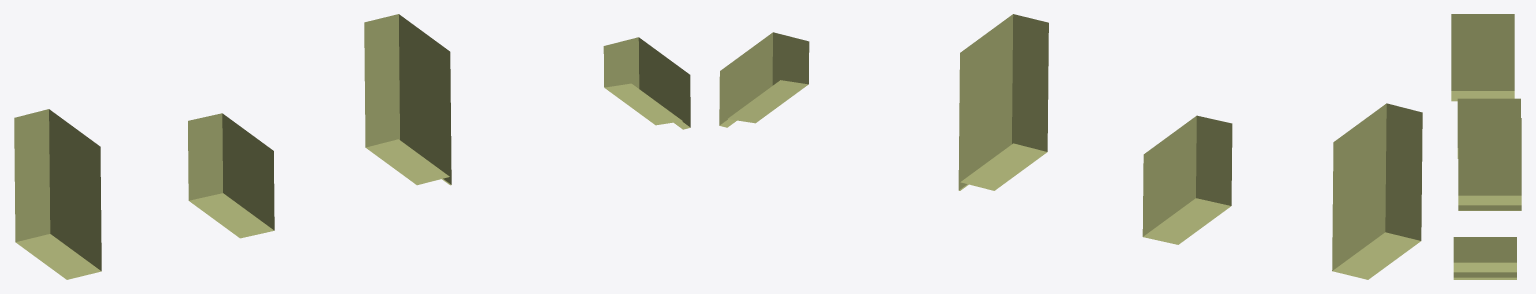
The picture shows the model from 3 angles, left to right: view 1: azimuth 30°, elevation 25°; view 2: azimuth 150°, elevation 25°; view 3: azimuth 270°, elevation 25°; orthographic projection. The views are drawn at different scales.
Visible parts, largest first — view 1: 0_2_1_0_0_3_0_0_3; view 2: 0_2_1_0_0_3_0_0_3; view 3: 0_2_1_0_0_3_0_0_3.
Part boxes in pixels (x1,y1,x2,y2): 0_2_1_0_0_3_0_0_3: [14, 14, 690, 279]; 0_2_1_0_0_3_0_0_3: [719, 14, 1422, 279]; 0_2_1_0_0_3_0_0_3: [1451, 14, 1521, 279].
Bounding box in the file's own units: 42.2 × 8.72 × 6.68.
